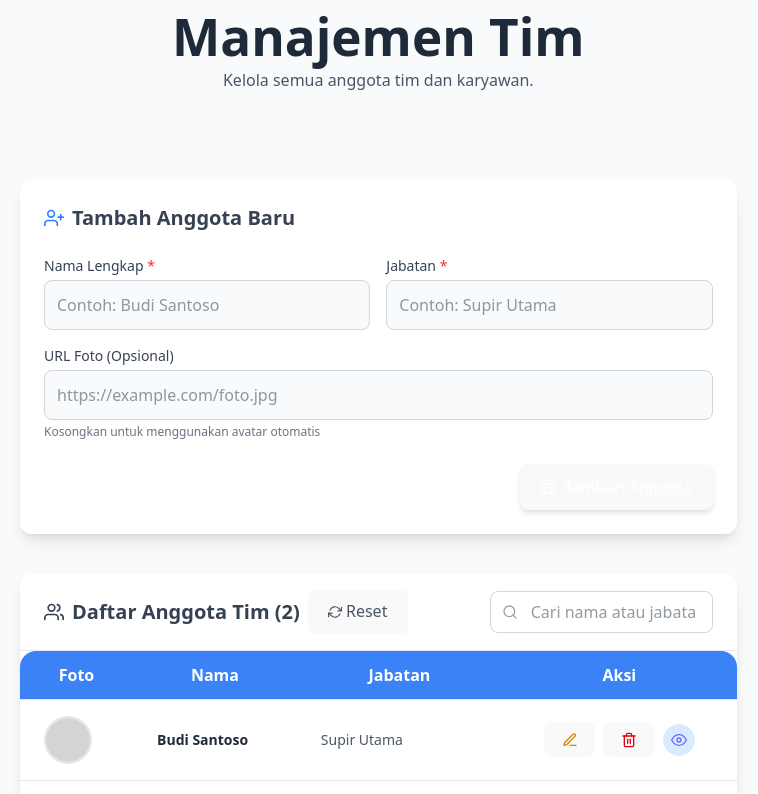
Test: Tim - CRUD Operations › should delete anggota tim
The image size is (758, 794).
Check: the text "Budi Santoso" is shown, box x1=157 y1=730 x2=248 y2=748
# Click delete button on first item
Click the button titled "Hapus": (629, 740) x1=603 y1=722 x2=655 y2=757
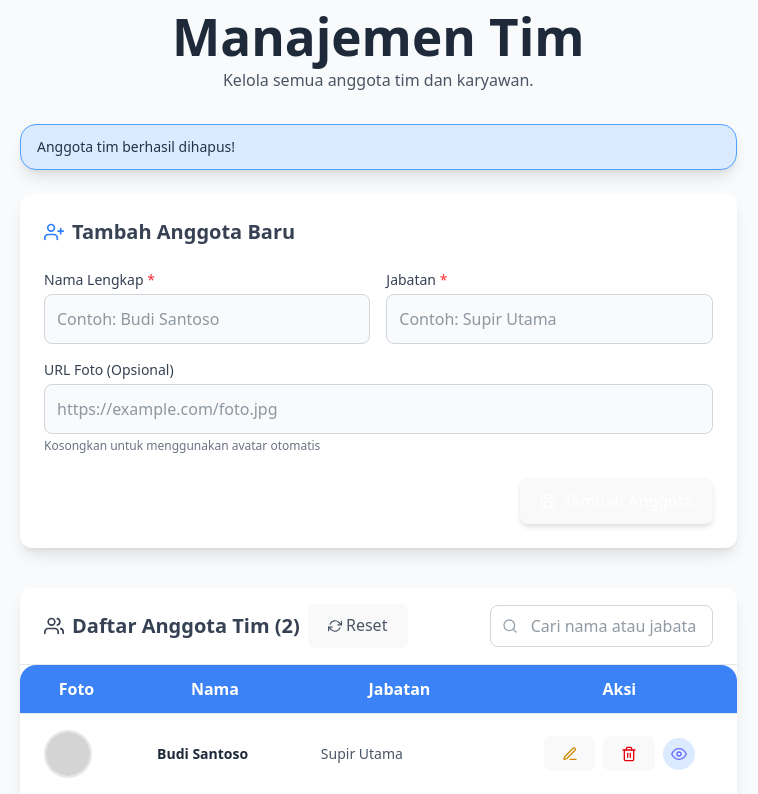
Check: the text "Anggota tim berhasil dihapus!" is shown, box x1=20 y1=124 x2=737 y2=170
